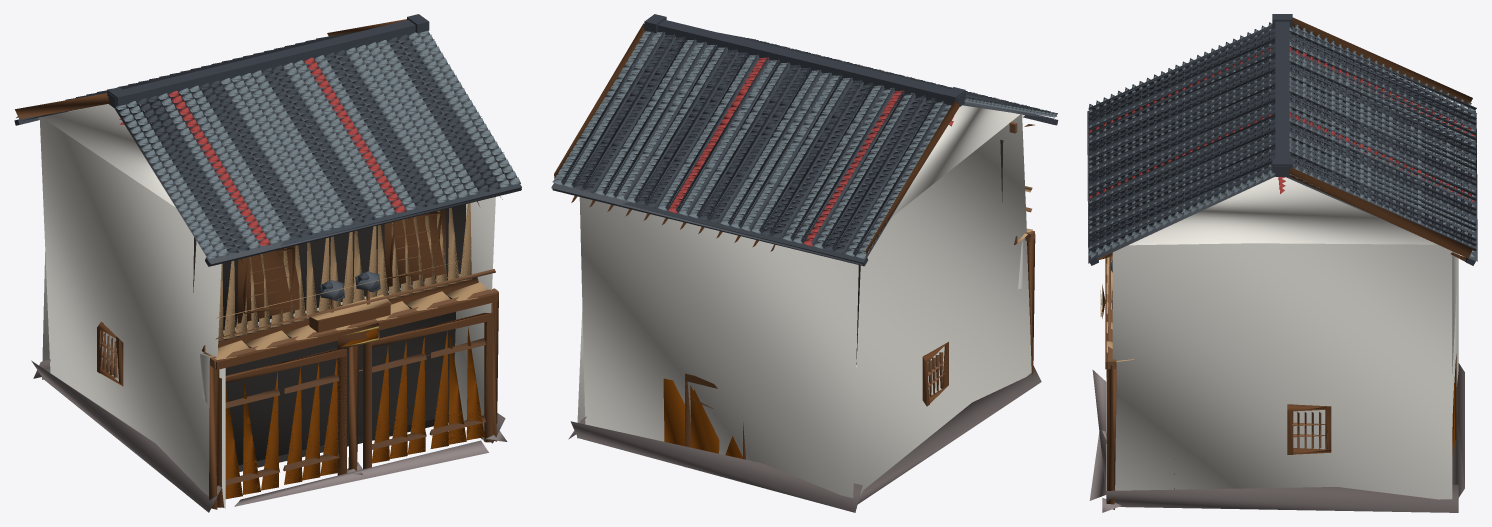
The model's file is lib_lib_house_b2.lod.glb.
The picture shows the model from 3 angles, left to right: view 1: azimuth 30°, elevation 25°; view 2: azimuth 150°, elevation 25°; view 3: azimuth 270°, elevation 25°; orthographic projection.
Visible parts, largest first — view 1: lhb2_body; view 2: lhb2_body; view 3: lhb2_body.
Boxes of the visible parts, bbox=[...] form: lhb2_body: bbox=[14, 14, 521, 512]; lhb2_body: bbox=[551, 14, 1058, 512]; lhb2_body: bbox=[1087, 14, 1477, 512].
Size of the model in its own units: 7.38 by 7.98 by 8.02.
1 material, 1 textured.
